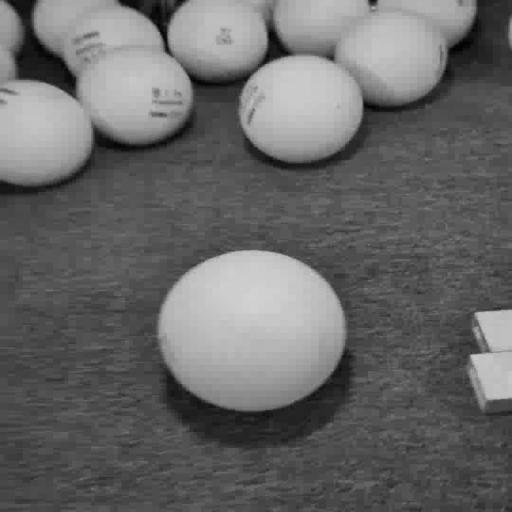fuel: (158, 250, 346, 411), (239, 55, 363, 163), (76, 47, 193, 145), (334, 10, 447, 107), (0, 79, 93, 186), (64, 5, 164, 76)
